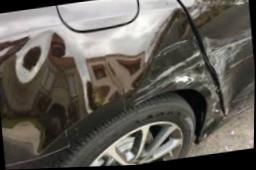Door: (200, 19, 255, 117)
Fender: (117, 35, 226, 148)
